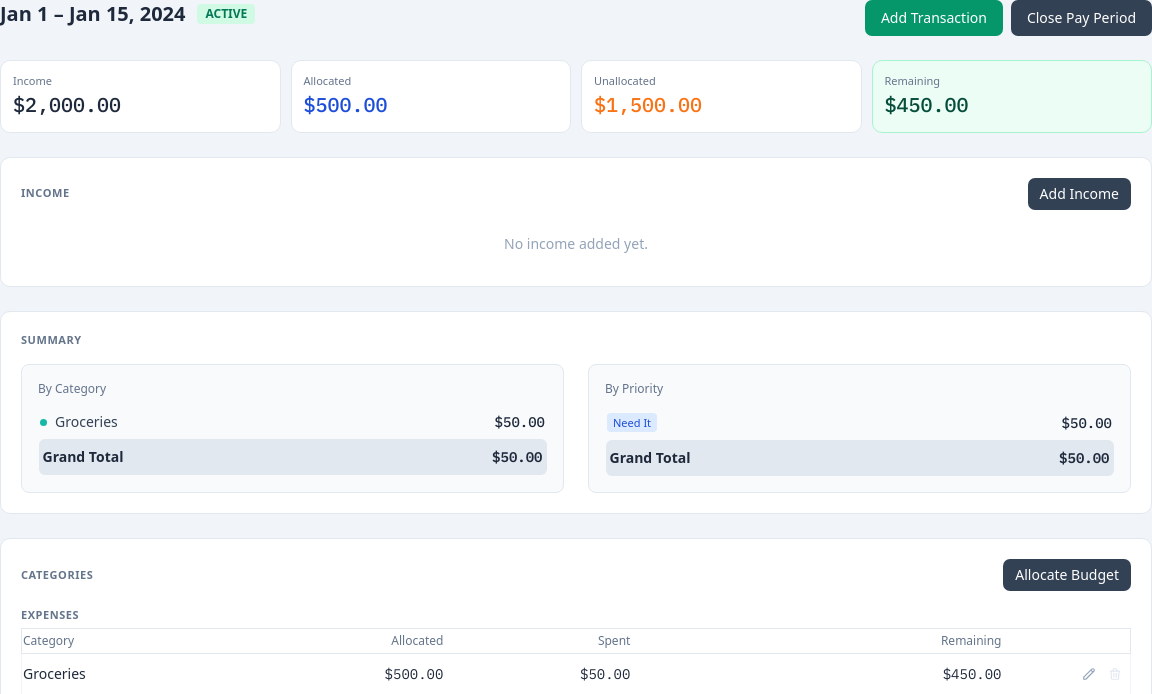
Test: PayPeriodDetailPage › shows error when close pay period fails
Click the button "Close Pay Period": (1081, 18) left=1011, top=0, right=1151, bottom=36
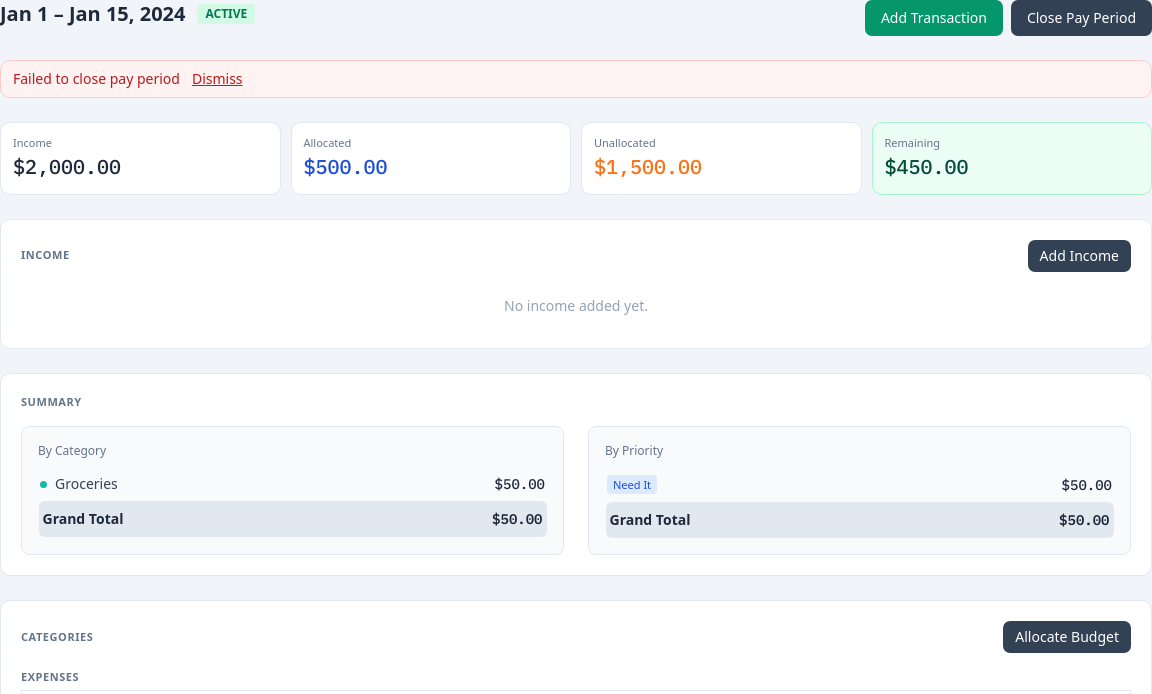
Check: the text "Failed to close pay period" is shown, box left=13, top=69, right=180, bottom=88
